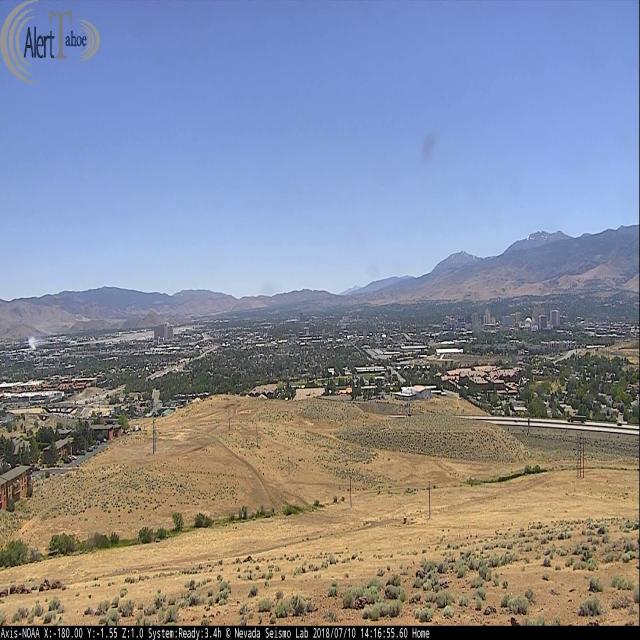smoke: (28, 333, 43, 351)
